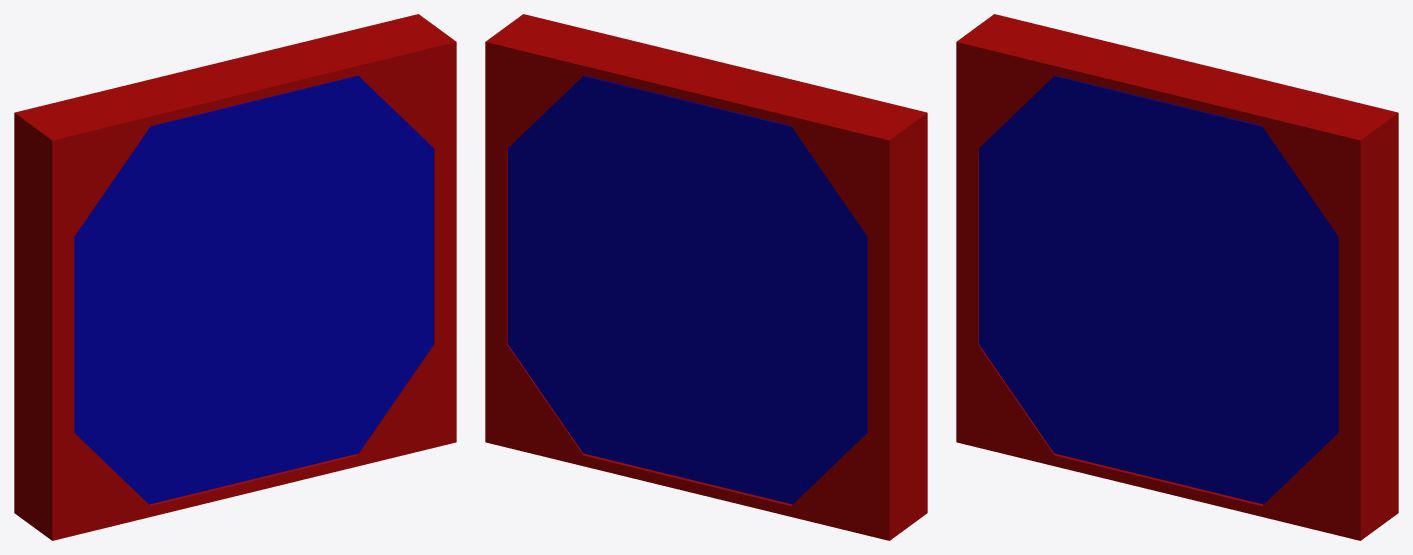
File: window.fbx
3 views of the same model, side by side, from view 1: azimuth 30°, elevation 25°; view 2: azimuth 150°, elevation 25°; view 3: azimuth 330°, elevation 25° (orthographic).
Parts seen in each view (by area): view 1: glass, metal_rim; view 2: glass, metal_rim; view 3: glass, metal_rim.
Boxes of the visible parts, x1=… form: glass: x1=74, y1=75, x2=433, y2=504; metal_rim: x1=14, y1=14, x2=456, y2=540; glass: x1=508, y1=75, x2=867, y2=504; metal_rim: x1=485, y1=14, x2=927, y2=540; glass: x1=979, y1=75, x2=1338, y2=504; metal_rim: x1=956, y1=14, x2=1398, y2=540.
Bounding box in the file's own units: 203 × 192 × 33.06.
